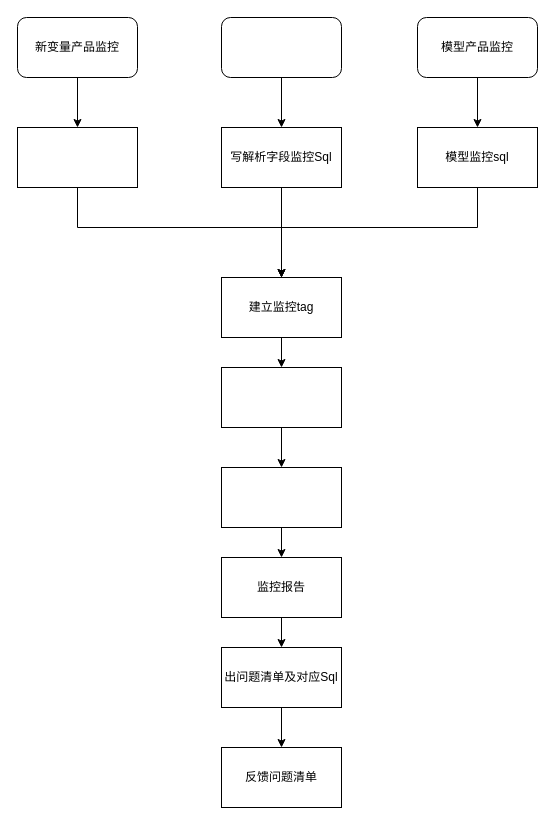
Some shapes in this 555 by 825 pixel diagram are drawn without their labels. Each missing label, with the centre of its shape:
"生成监控sql" goes at point 77,157.
"获得统计结果" goes at point 281,497.
"解析产品监控" goes at point 281,47.
"部署上线" goes at point 281,397.
